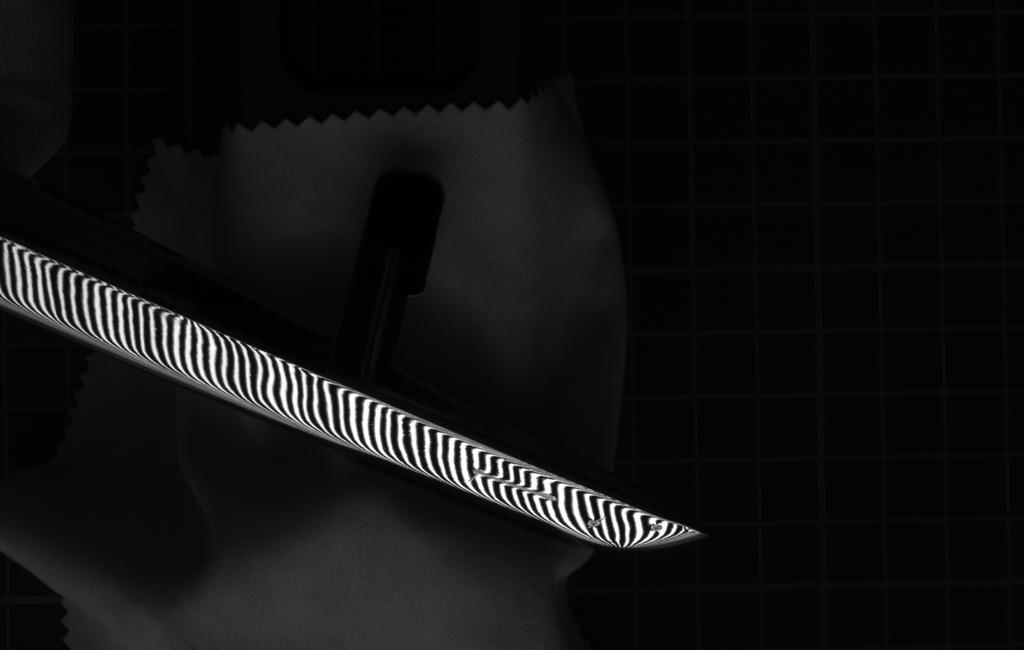Pierced: (642, 515, 667, 537), (581, 512, 607, 533)
Scratch: (463, 459, 571, 508)
